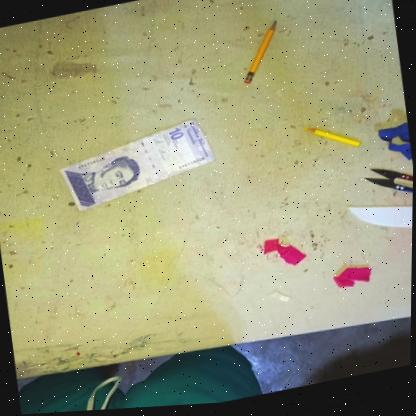ten-front-vef: (54, 116, 219, 216)
